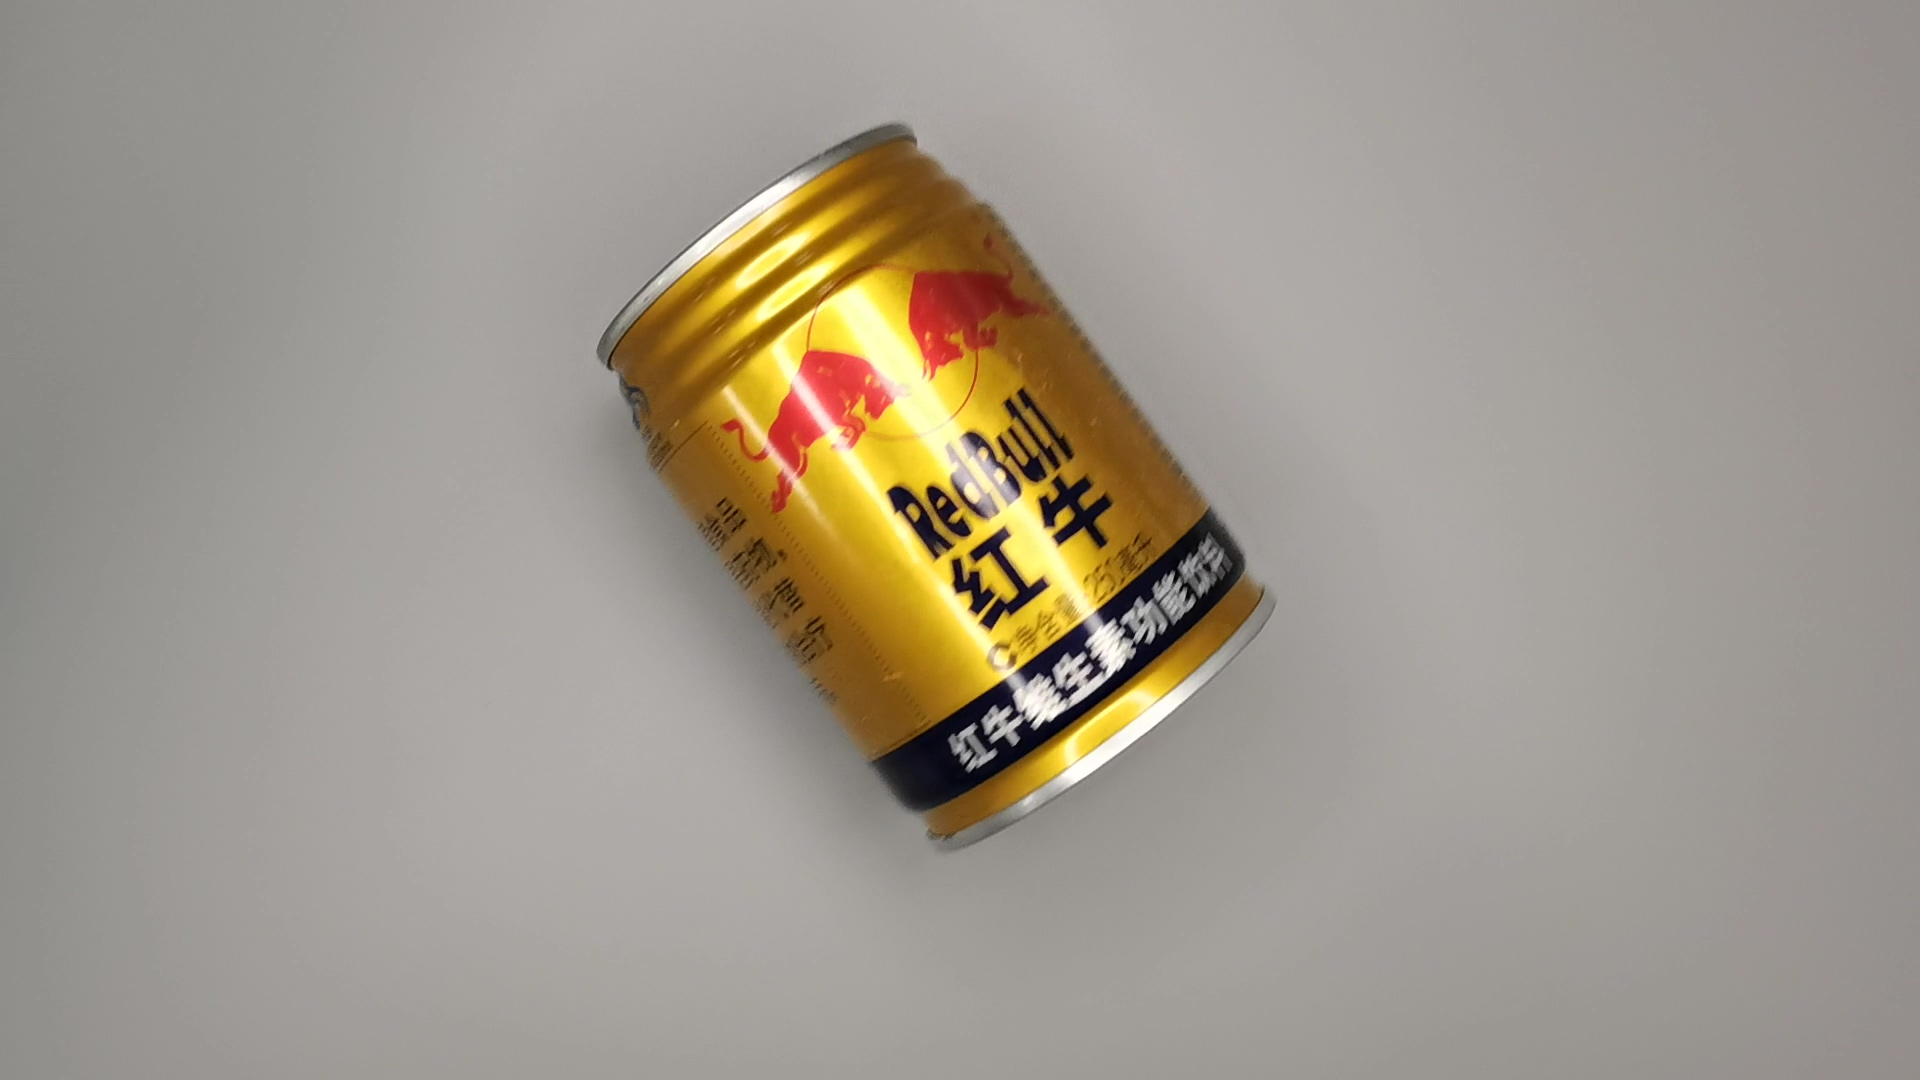can: (588, 108, 1284, 864)
